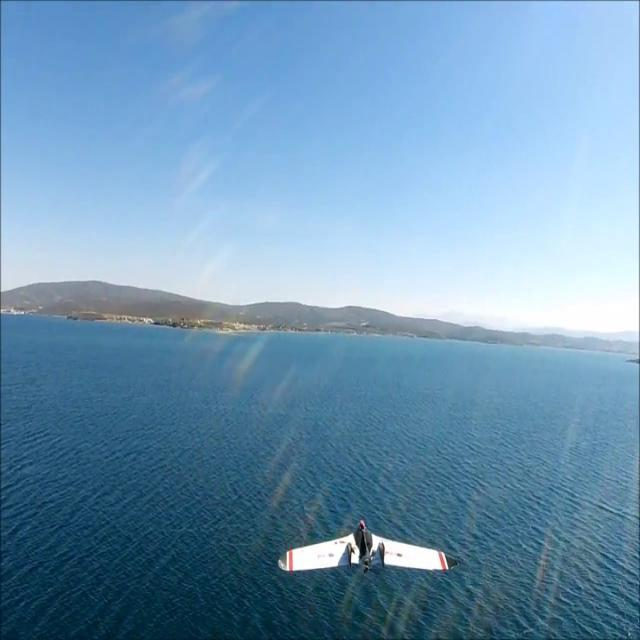iha: (274, 523, 460, 573)
